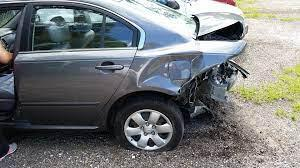quaterpanel-dent: (134, 43, 206, 98)
